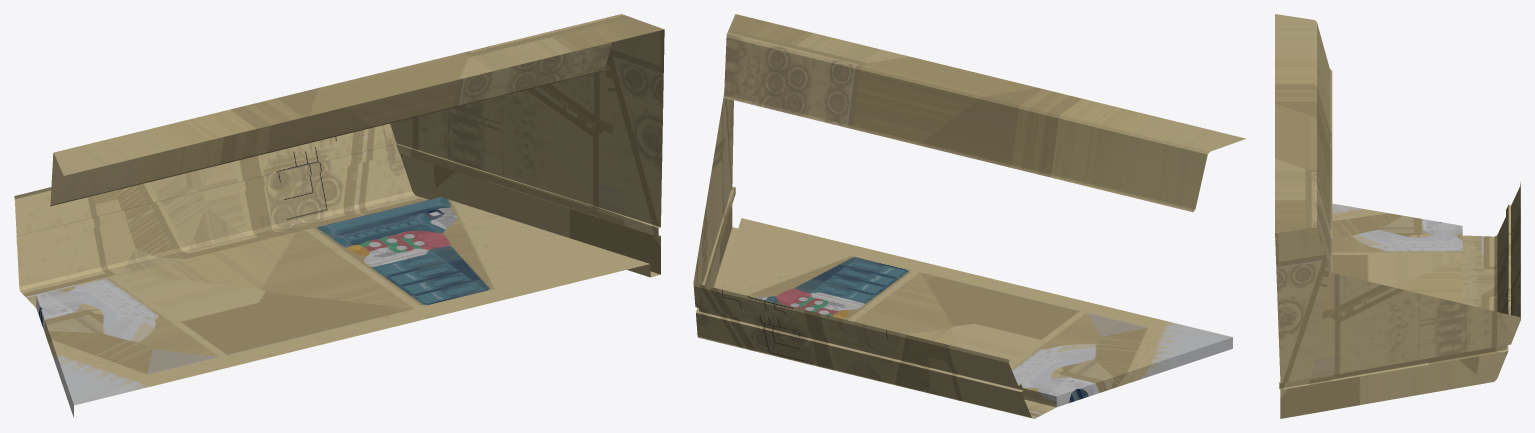
The model's file is G_Desk_End_2.fbx.
3 views of the same model, side by side, from view 1: azimuth 30°, elevation 25°; view 2: azimuth 150°, elevation 25°; view 3: azimuth 270°, elevation 25° (orthographic). The views are drawn at different scales.
Visible parts, largest first — view 1: G_Desk_03; view 2: G_Desk_03; view 3: G_Desk_03.
Part boxes in pixels (x1,y1,x2,y2): G_Desk_03: [14, 14, 664, 417]; G_Desk_03: [693, 14, 1245, 418]; G_Desk_03: [1275, 14, 1520, 418].
Bounding box in the file's own units: 93.76 × 37.02 × 44.4.
